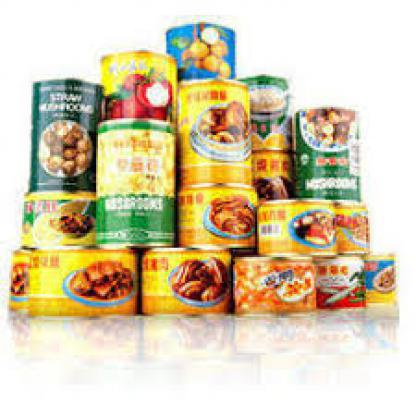METAL: (92, 116, 174, 246), (7, 244, 139, 316), (28, 78, 102, 190), (176, 81, 255, 185), (137, 246, 229, 314), (290, 105, 357, 198), (98, 48, 176, 118), (174, 188, 259, 248), (231, 254, 314, 312), (255, 196, 335, 255), (163, 15, 233, 79), (22, 188, 94, 246), (237, 74, 290, 150), (314, 253, 362, 307), (248, 148, 292, 196), (360, 251, 394, 307), (333, 198, 366, 253)
